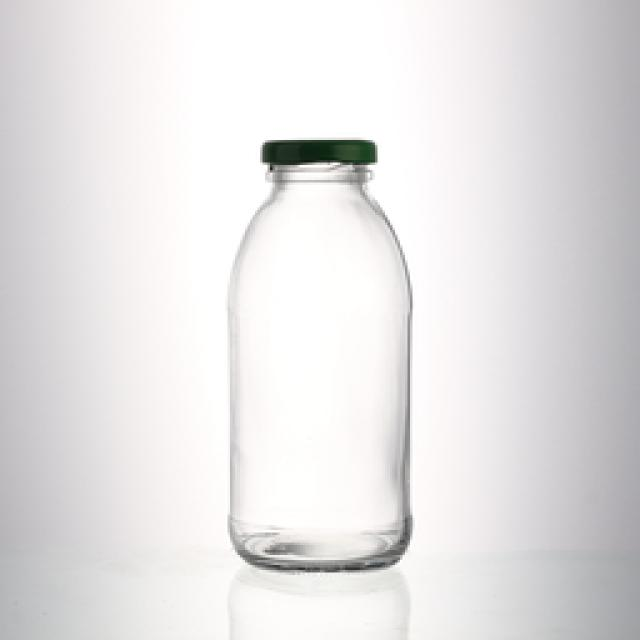glass_beverage_bottles: (226, 135, 412, 572)
